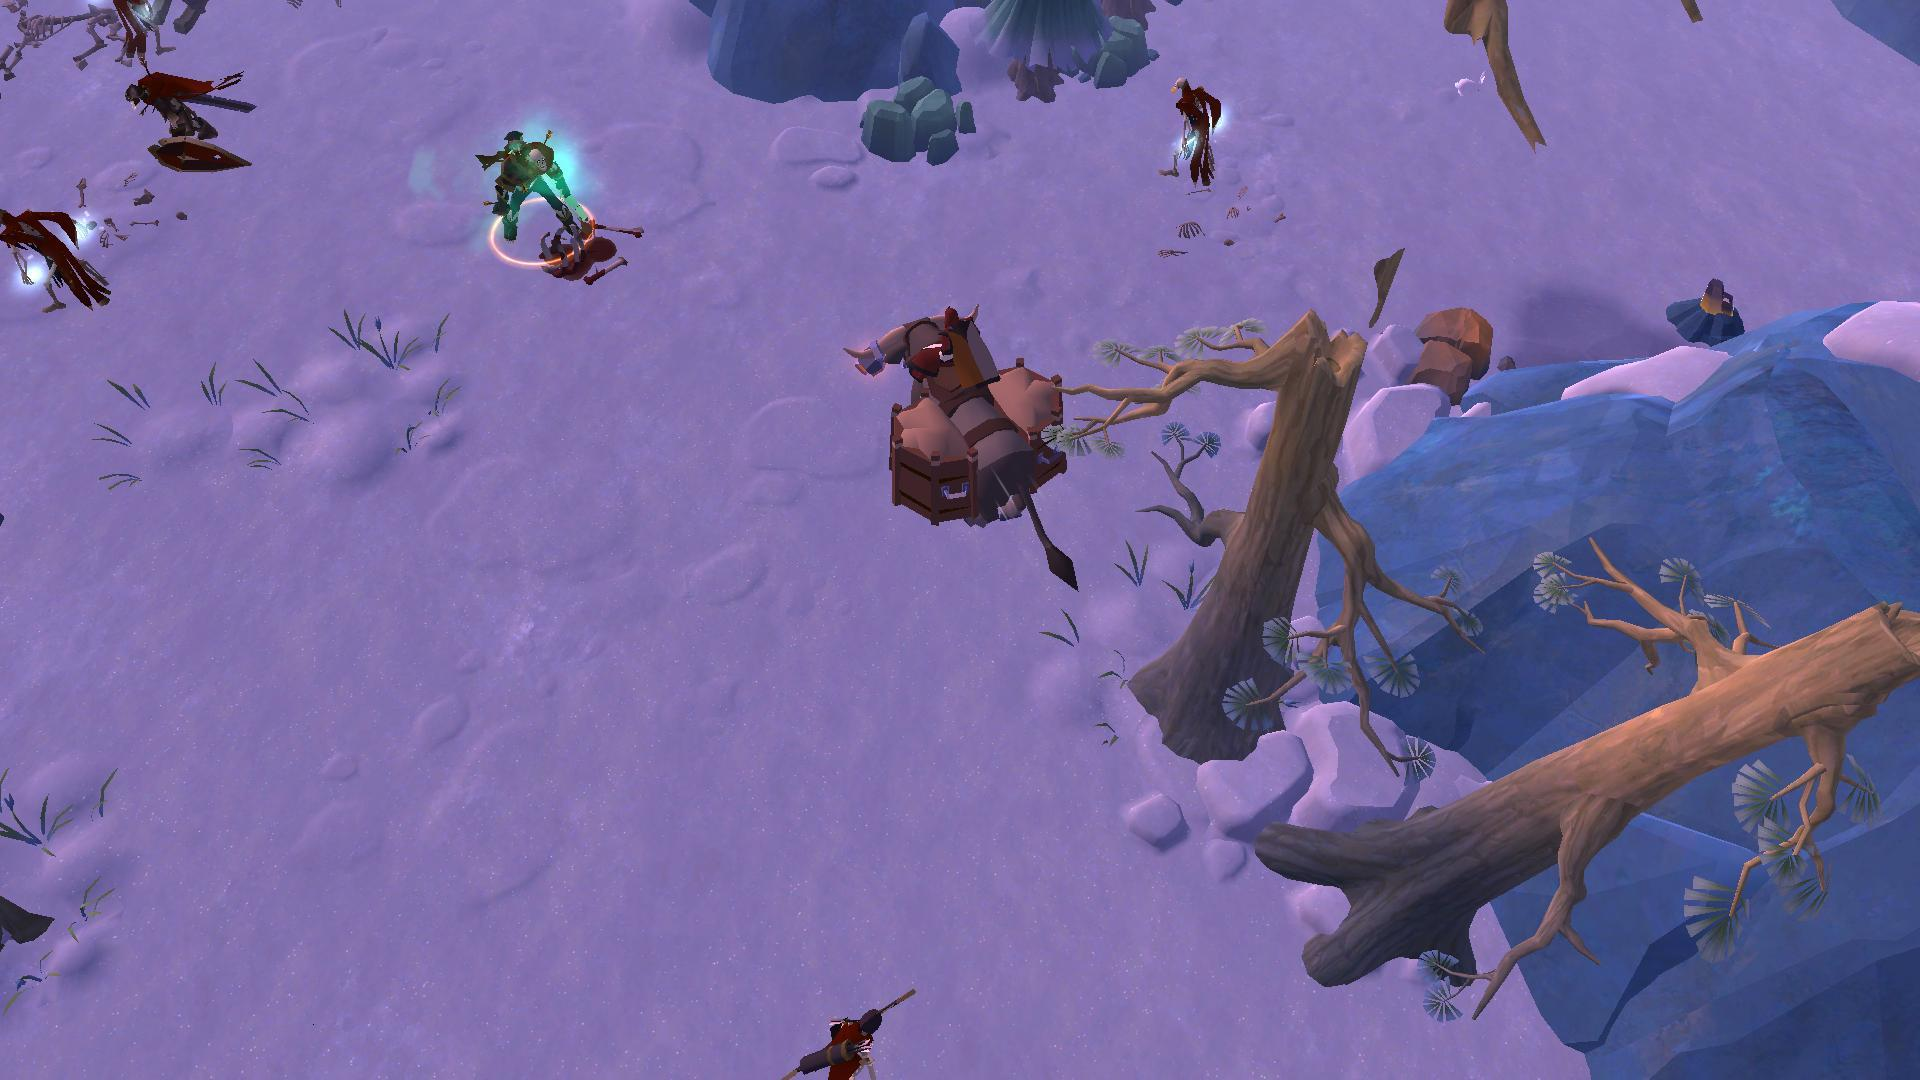enemy_factionUndead: (471, 121, 596, 272), (131, 58, 270, 189), (0, 203, 123, 336), (793, 1000, 922, 1080), (1168, 78, 1230, 198)
rock_t3: (835, 80, 975, 162), (1059, 5, 1164, 94)
